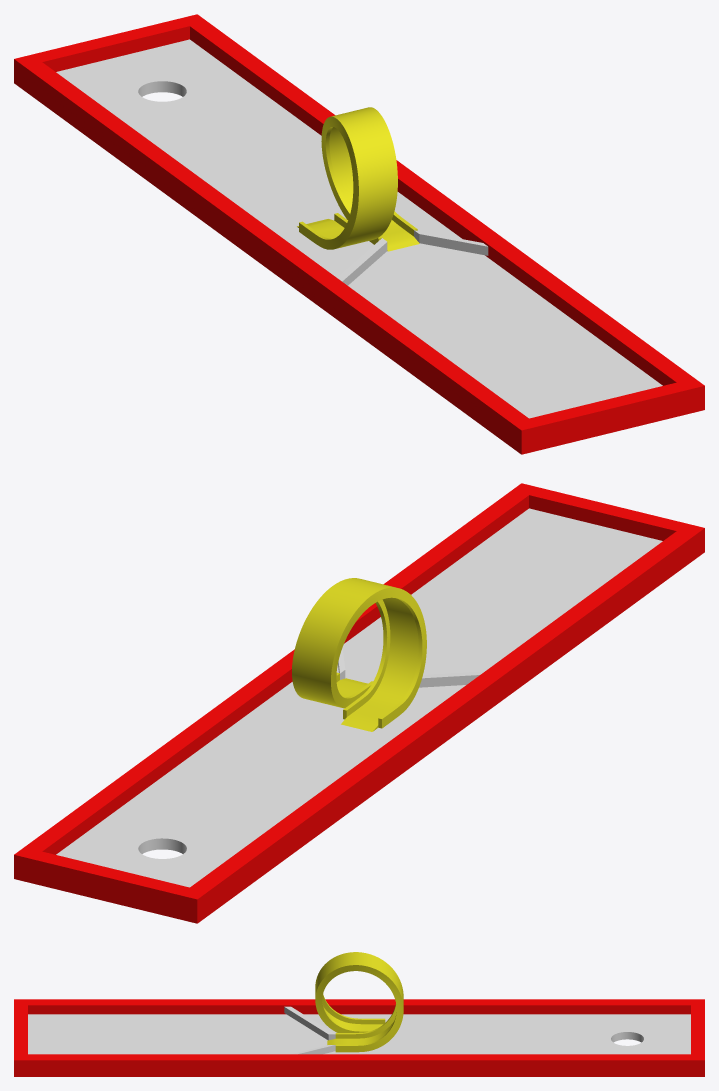
Rendered from BahnM1.fbx.
3 views of the same model, one above another, from view 1: azimuth 30°, elevation 25°; view 2: azimuth 150°, elevation 25°; view 3: azimuth 270°, elevation 25° (orthographic). The views are drawn at different scales.
Visible parts, largest first — view 1: Track1; view 2: Track1; view 3: Track1.
Boxes of the visible parts, x1,y1,x2,y2 form: Track1: (14,14,704,454); Track1: (14,483,704,923); Track1: (14,952,704,1076).
Size of the model in its own units: 87 by 58.49 by 417.
